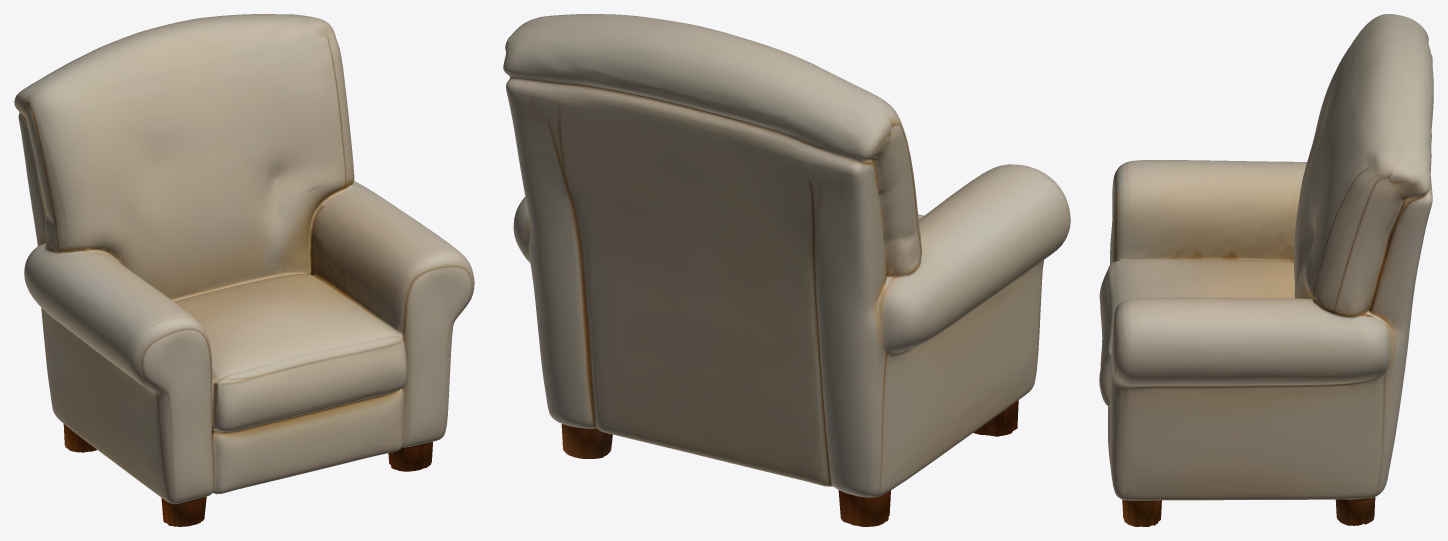
File: armchair.glb
3 views of the same model, side by side, from view 1: azimuth 30°, elevation 25°; view 2: azimuth 150°, elevation 25°; view 3: azimuth 270°, elevation 25° (orthographic). The views are drawn at different scales.
Visible parts, largest first — view 1: patrick-reference-armchair; view 2: patrick-reference-armchair; view 3: patrick-reference-armchair.
Boxes of the visible parts, box(x1,y1,x2,y2) form: patrick-reference-armchair: box(14, 14, 474, 526); patrick-reference-armchair: box(503, 14, 1070, 526); patrick-reference-armchair: box(1099, 14, 1433, 526).
Size of the model in its own units: 1.38 by 1.45 by 1.1.
Materials: 1 (1 with a texture image).
